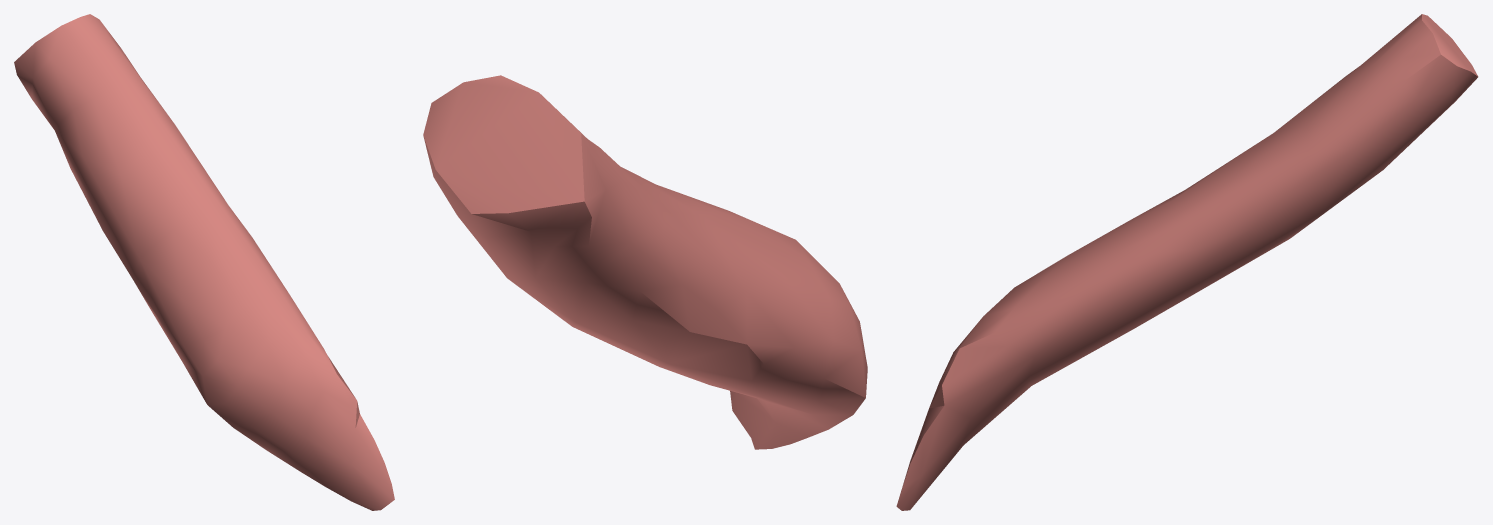
The model's file is fma42585_mm1930m.glb.
The picture shows the model from 3 angles, left to right: view 1: azimuth 30°, elevation 25°; view 2: azimuth 150°, elevation 25°; view 3: azimuth 270°, elevation 25°; orthographic projection. The views are drawn at different scales.
Visible parts, largest first — view 1: FMA42585_MM1930M; view 2: FMA42585_MM1930M; view 3: FMA42585_MM1930M.
Part boxes in pixels (left/top/right/bottom): FMA42585_MM1930M: left=14, top=14, right=394, bottom=510; FMA42585_MM1930M: left=423, top=75, right=867, bottom=449; FMA42585_MM1930M: left=896, top=14, right=1478, bottom=510.
Bounding box in the file's own units: 0.0057 × 0.0128 × 0.0153.
